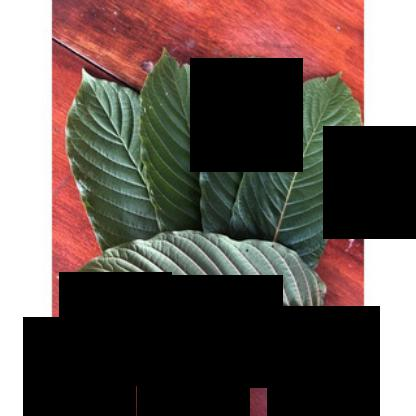kratom-red: (57, 232, 365, 376)
